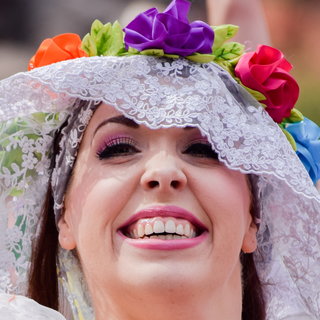eye: (172, 139, 239, 168), (92, 136, 144, 164)
